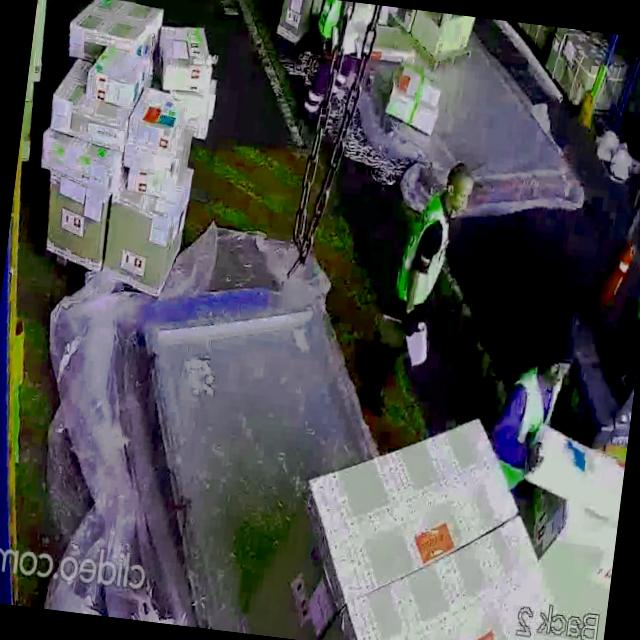Box: (100, 190, 190, 283), (42, 182, 112, 268), (69, 0, 162, 58), (124, 89, 190, 154), (161, 19, 218, 91), (384, 59, 441, 124), (44, 100, 118, 144), (38, 140, 114, 180), (92, 48, 143, 98)
